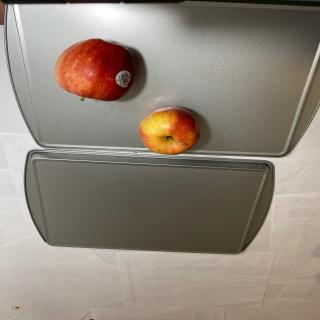Apple: (54, 38, 136, 102), (139, 107, 200, 155)
